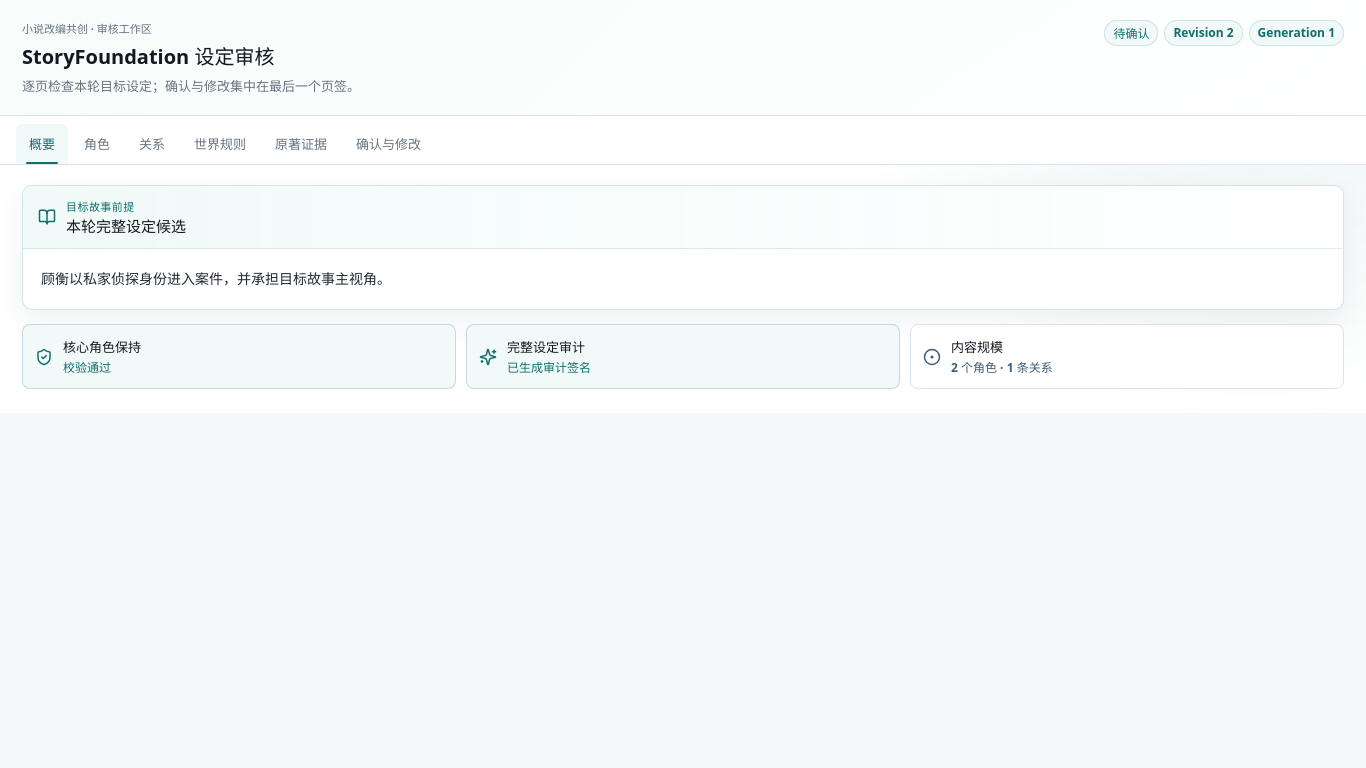
Test: FoundationReviewWorkspace › 将完整设定拆成互斥页签，不在同一页堆叠所有内容
Expected: the text "取证者与对手" is not shown
Click the tab "角色".
click(97, 144)  # box [71,124,123,164]
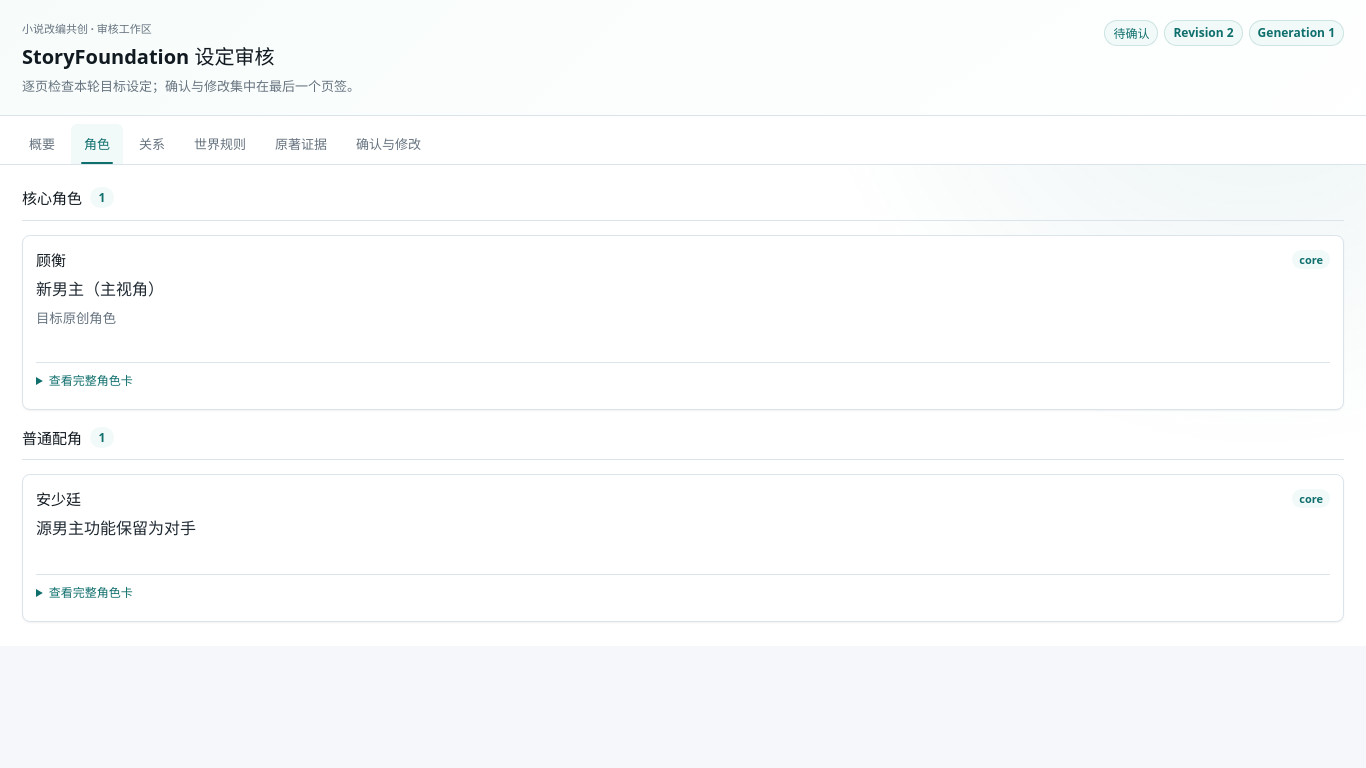
Expected: the text "顾衡" is shown, [36,248,66,270]
Expected: the text "新男主（主视角）" is shown, [36,278,164,300]
Expected: the text "目标故事前提" is gone
Click the tab "关系".
click(152, 144)  # box [126,124,178,164]
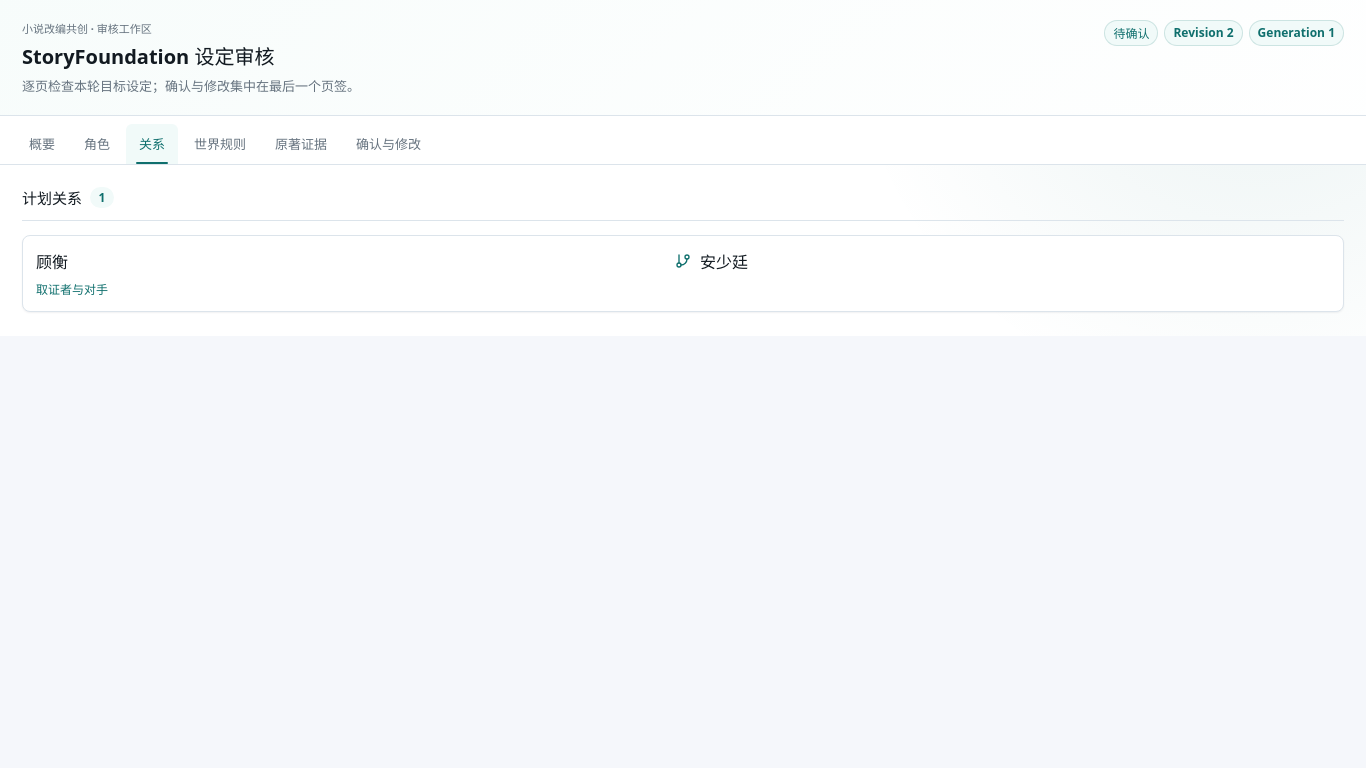
Expected: the text "取证者与对手" is shown, [36,280,108,298]
